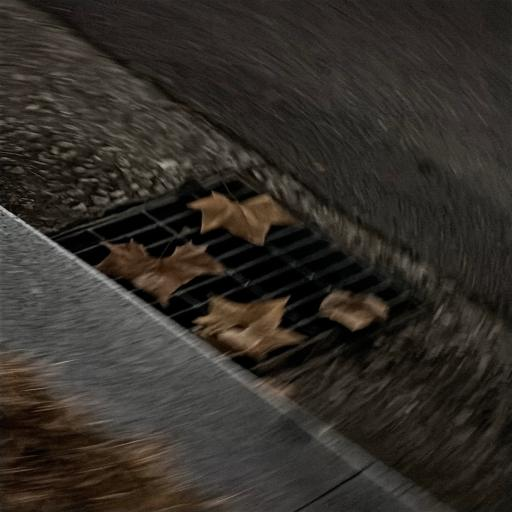debris: (100, 240, 224, 303), (193, 295, 304, 357), (187, 192, 302, 245), (319, 290, 388, 330), (335, 237, 363, 256), (428, 295, 439, 306)
drain: (52, 174, 447, 374)
